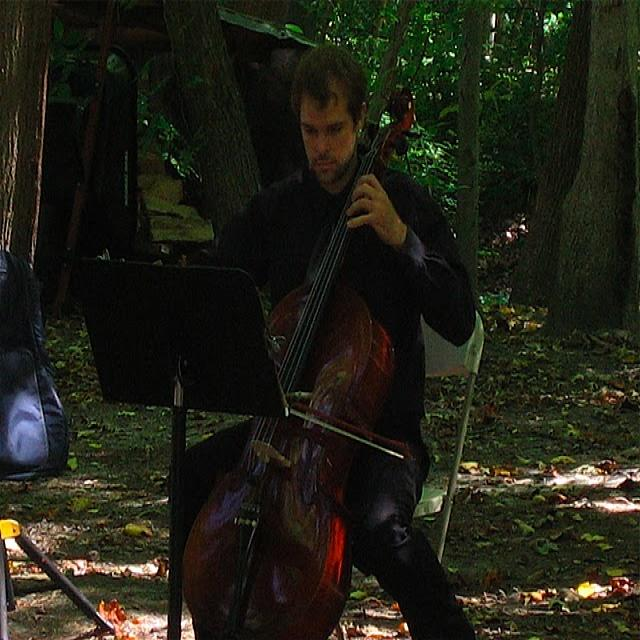cello: (182, 84, 416, 640)
